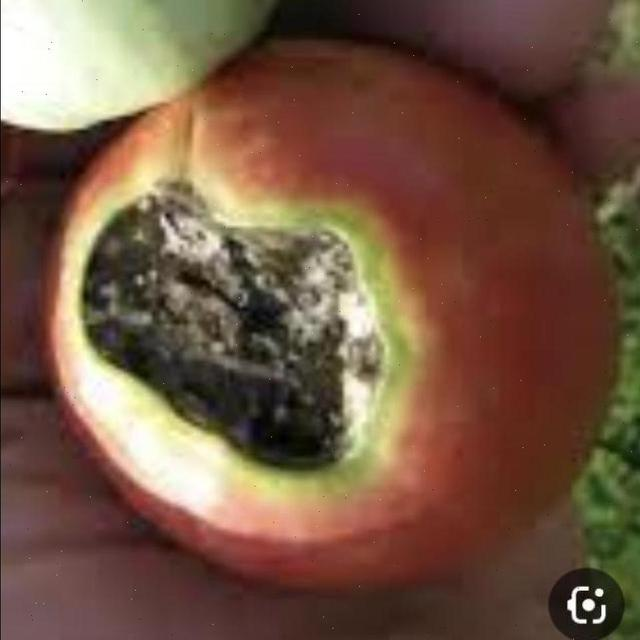Blossom End Rot Fruit: (47, 118, 270, 332)
